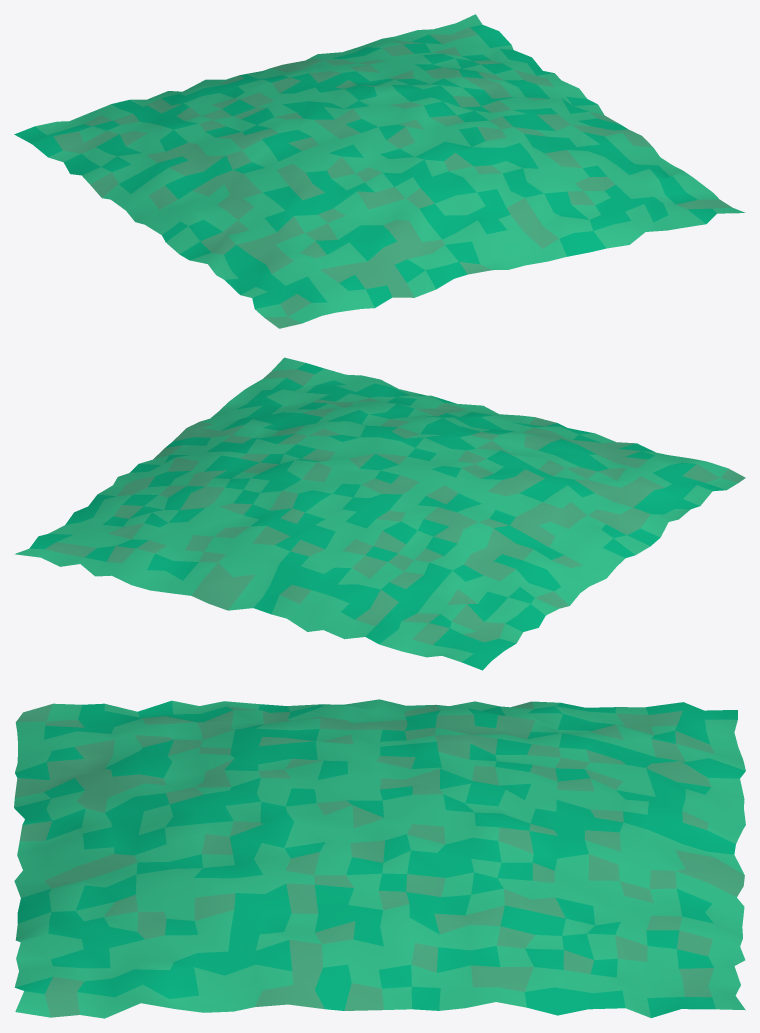
The model's file is terrain.fbx.
3 renders of one model, top to bottom at view 1: azimuth 30°, elevation 25°; view 2: azimuth 150°, elevation 25°; view 3: azimuth 270°, elevation 25°, orthographic. The views are drawn at different scales.
Parts seen in each view (by area): view 1: park_terrain; view 2: park_terrain; view 3: park_terrain.
Part boxes in pixels (x1,y1,x2,y2): park_terrain: (14, 14, 745, 328); park_terrain: (14, 357, 745, 670); park_terrain: (14, 699, 745, 1018).
Size of the model in its own units: 24.39 by 2.62 by 24.38.
